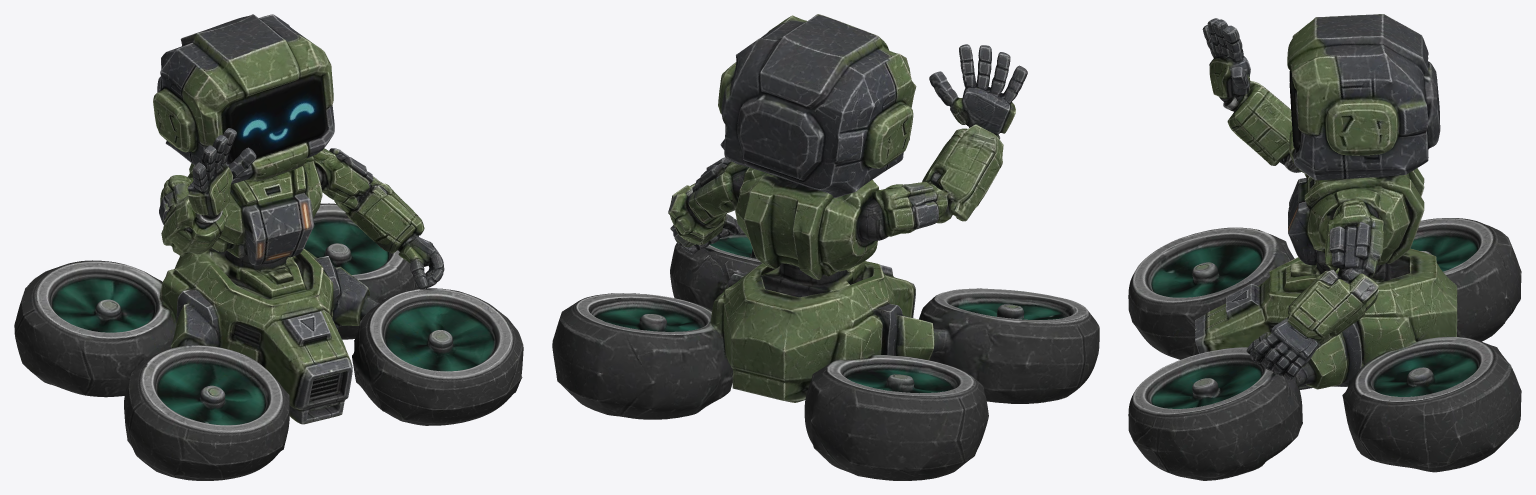
File: Hoverbot_flying.glb
The picture shows the model from 3 angles, left to right: view 1: azimuth 30°, elevation 25°; view 2: azimuth 150°, elevation 25°; view 3: azimuth 270°, elevation 25°; orthographic projection. The views are drawn at different scales.
Bounding box in the file's own units: 62222 × 55697 × 53540.
1 material, 1 textured.
